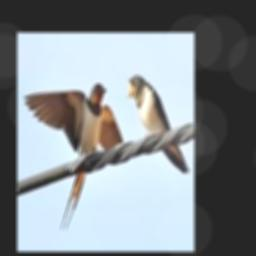Swallow: (24, 83, 125, 229), (127, 76, 191, 174)
